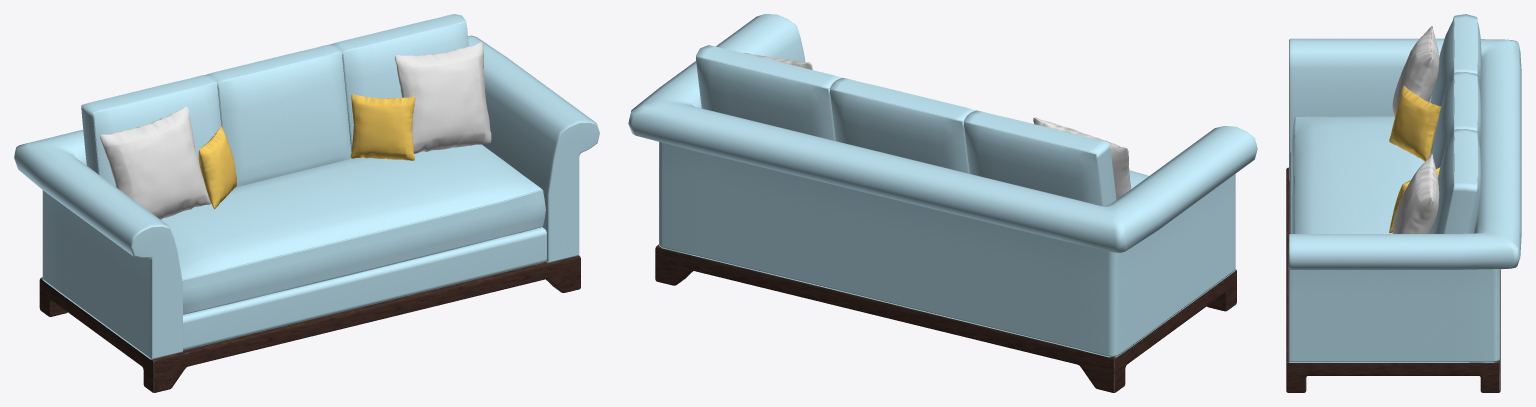
3 renders of one model, left to right at view 1: azimuth 30°, elevation 25°; view 2: azimuth 150°, elevation 25°; view 3: azimuth 270°, elevation 25°, orthographic. The views are drawn at different scales.
Parts seen in each view (by area): view 1: _75:pCube11, _75:_75:_75:_75:pCube45, _75:pCube40, _75:pCube1, Low.001, _75:_75:_75:_75:_75:_75:_75:_75:pCube46, _975:Pillow1:Mesh, _75:pCube41, _75:pCube39, _975:Mesh; view 2: _75:_75:_75:_75:pCube45, _75:_75:_75:_75:_75:_75:_75:_75:pCube46, _75:pCube41, _75:pCube40, _75:pCube39, _975:Pillow1:Mesh; view 3: _75:_75:_75:_75:pCube45, _75:pCube11, _75:_75:_75:_75:_75:_75:_75:_75:pCube46, _75:pCube39, _75:pCube40, Low.001, _75:pCube41, _975:Mesh, _975:Pillow1:Mesh, _75:pCube1.
Part boxes in pixels (bbox=[...]): _75:pCube11: bbox=[161, 144, 545, 314]; _75:_75:_75:_75:pCube45: bbox=[14, 35, 599, 359]; _75:pCube40: bbox=[206, 44, 351, 186]; _75:pCube1: bbox=[183, 227, 546, 350]; Low.001: bbox=[350, 42, 491, 160]; _75:_75:_75:_75:_75:_75:_75:_75:pCube46: bbox=[39, 256, 580, 392]; _975:Pillow1:Mesh: bbox=[100, 106, 210, 219]; _75:pCube41: bbox=[81, 75, 221, 186]; _75:pCube39: bbox=[330, 14, 468, 151]; _975:Mesh: bbox=[198, 126, 236, 209]; _75:_75:_75:_75:pCube45: bbox=[628, 14, 1257, 357]; _75:_75:_75:_75:_75:_75:_75:_75:pCube46: bbox=[655, 244, 1236, 392]; _75:pCube41: bbox=[963, 110, 1116, 205]; _75:pCube40: bbox=[829, 77, 975, 173]; _75:pCube39: bbox=[696, 45, 841, 140]; _975:Pillow1:Mesh: bbox=[1033, 117, 1131, 199]; _75:_75:_75:_75:pCube45: bbox=[1288, 38, 1521, 362]; _75:pCube11: bbox=[1292, 116, 1424, 233]; _75:_75:_75:_75:_75:_75:_75:_75:pCube46: bbox=[1286, 167, 1500, 392]; _75:pCube39: bbox=[1430, 129, 1481, 233]; _75:pCube40: bbox=[1431, 72, 1481, 168]; Low.001: bbox=[1389, 154, 1440, 233]; _75:pCube41: bbox=[1430, 14, 1481, 154]; _975:Mesh: bbox=[1389, 85, 1440, 161]; _975:Pillow1:Mesh: bbox=[1392, 26, 1439, 118]; _75:pCube1: bbox=[1289, 151, 1292, 233].
Size of the model in its own units: 1.92 by 0.8197 by 0.8897.
Materials: 1 (1 with a texture image).
